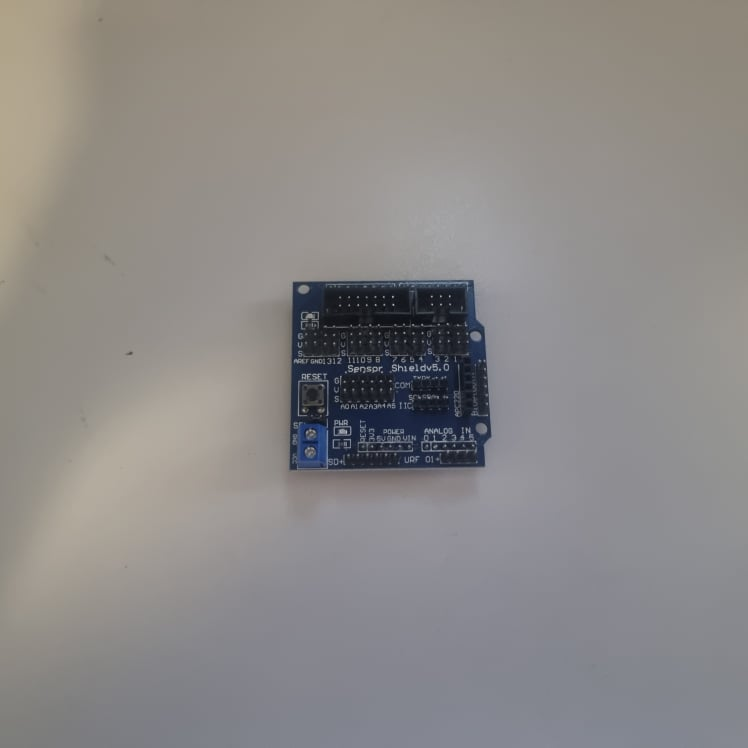5V EXPANSION: (290, 278, 497, 473)
